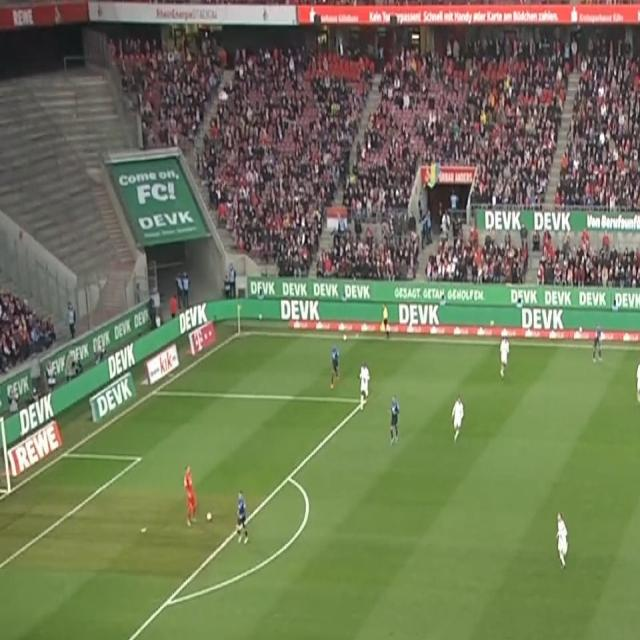ball: (206, 510, 212, 522)
